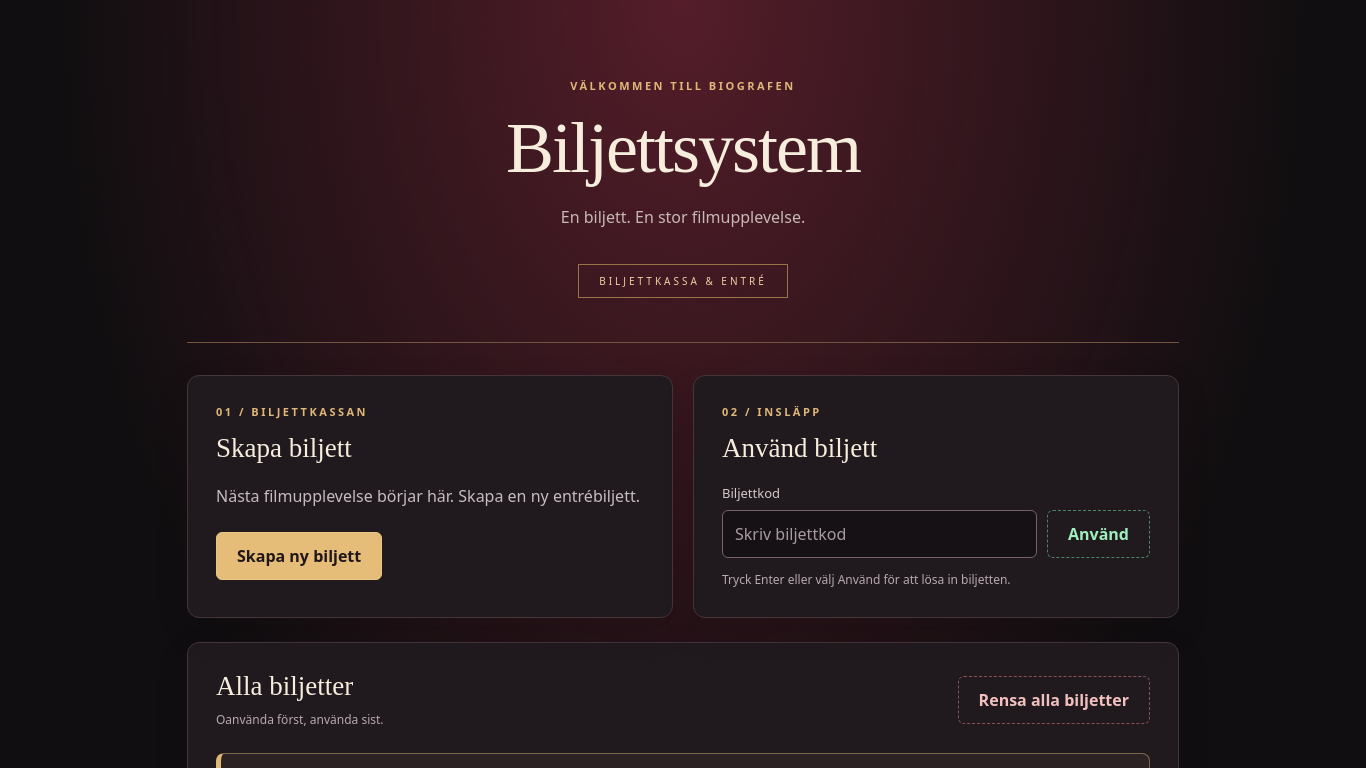
Ticket system › should keep tickets when clearing fails
This screenshot has width=1366, height=768.
What coordinates should you click on to do the following:
click the button "Rensa alla biljetter"
I would click on:
 (1054, 700)
Its box is [958,676,1150,724].
(page scrolled)
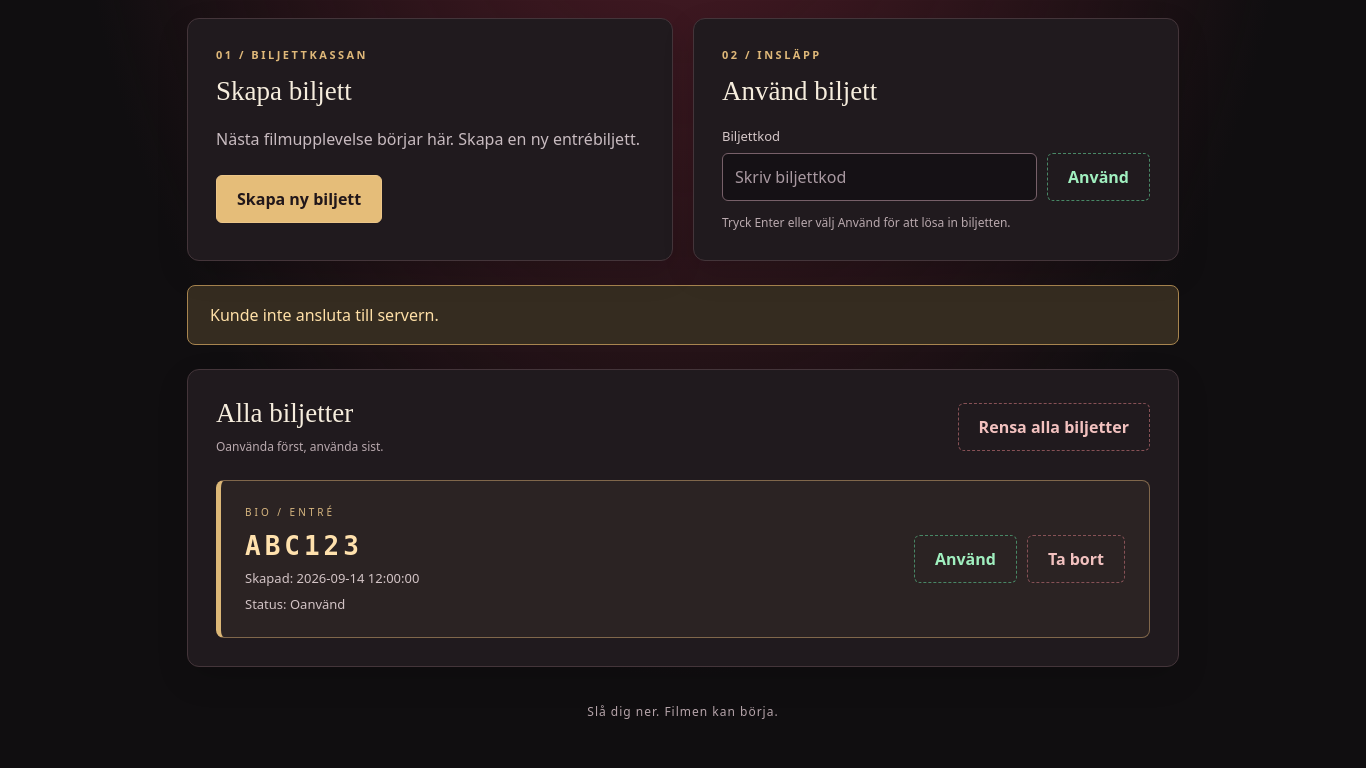
Expected: the text "ABC123" is shown, [245,531,363,561]
Expected: the text "Kunde inte ansluta till servern." is shown, [187,285,1179,345]
